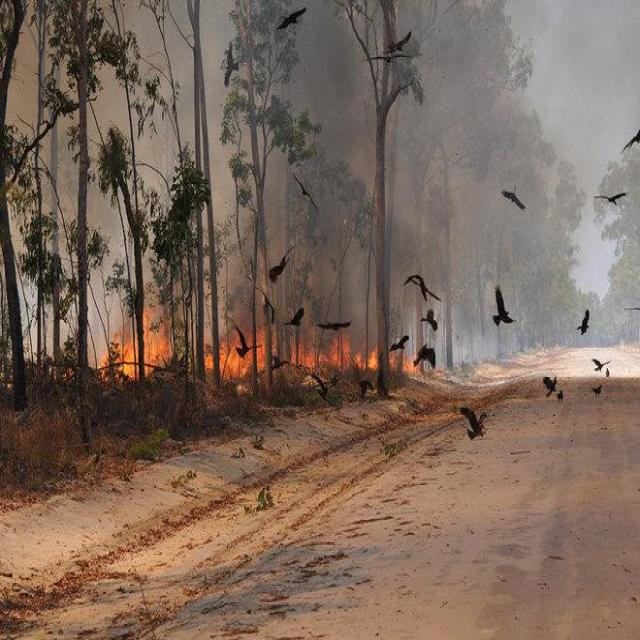Fire: (99, 276, 403, 398)
